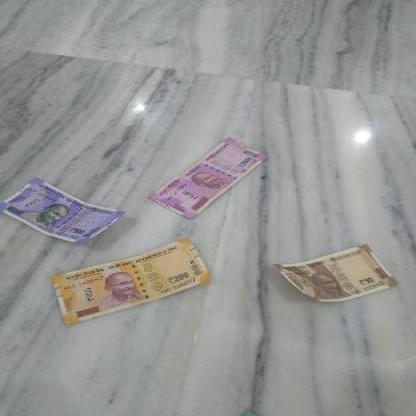New100Front: (5, 178, 123, 243)
New10Front: (275, 245, 400, 300)
New2000Front: (147, 138, 273, 217)
New200Front: (45, 240, 208, 315)
